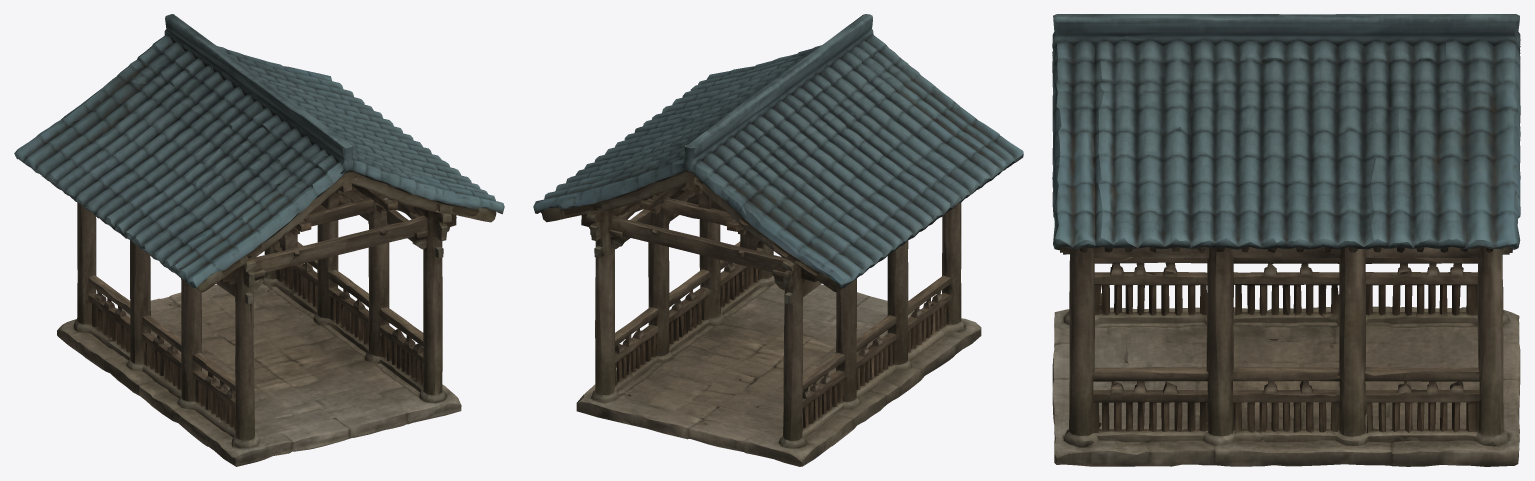
The model's file is ARCH-004.glb.
3 renders of one model, left to right at view 1: azimuth 30°, elevation 25°; view 2: azimuth 150°, elevation 25°; view 3: azimuth 270°, elevation 25°, orthographic. The views are drawn at different scales.
Parts seen in each view (by area): view 1: world; view 2: world; view 3: world.
Boxes of the visible parts, x1,y1,x2,y2 form: world: [14, 14, 504, 466]; world: [533, 14, 1023, 466]; world: [1052, 14, 1520, 466].
Bounding box in the file's own units: 6 × 5.37 × 5.99.
1 material, 1 textured.
